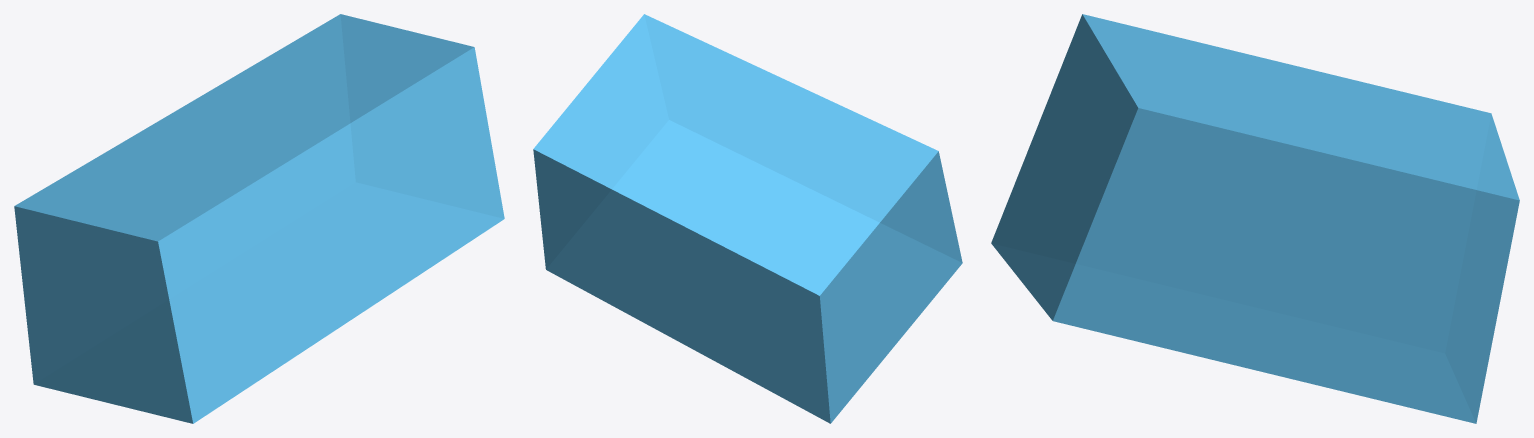
The model's file is Event_421127236_HErechit_28.fbx.
3 renders of one model, left to right at view 1: azimuth 30°, elevation 25°; view 2: azimuth 150°, elevation 25°; view 3: azimuth 270°, elevation 25°, orthographic. The views are drawn at different scales.
Parts seen in each view (by area): view 1: Model; view 2: Model; view 3: Model.
Boxes of the visible parts, x1,y1,x2,y2 form: Model: (14,14,504,423); Model: (533,14,962,423); Model: (991,14,1519,423).
Size of the model in its own units: 0.8007 by 0.7629 by 0.7666.
